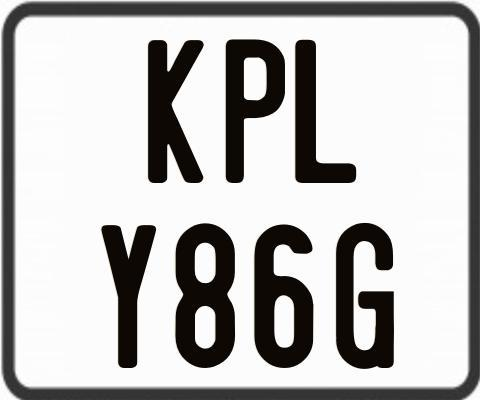6: (254, 223, 319, 373)
8: (175, 223, 236, 372)
G: (333, 220, 395, 367)
K: (148, 39, 204, 188)
L: (293, 39, 354, 188)
P: (223, 38, 283, 188)
Y: (98, 223, 157, 367)
